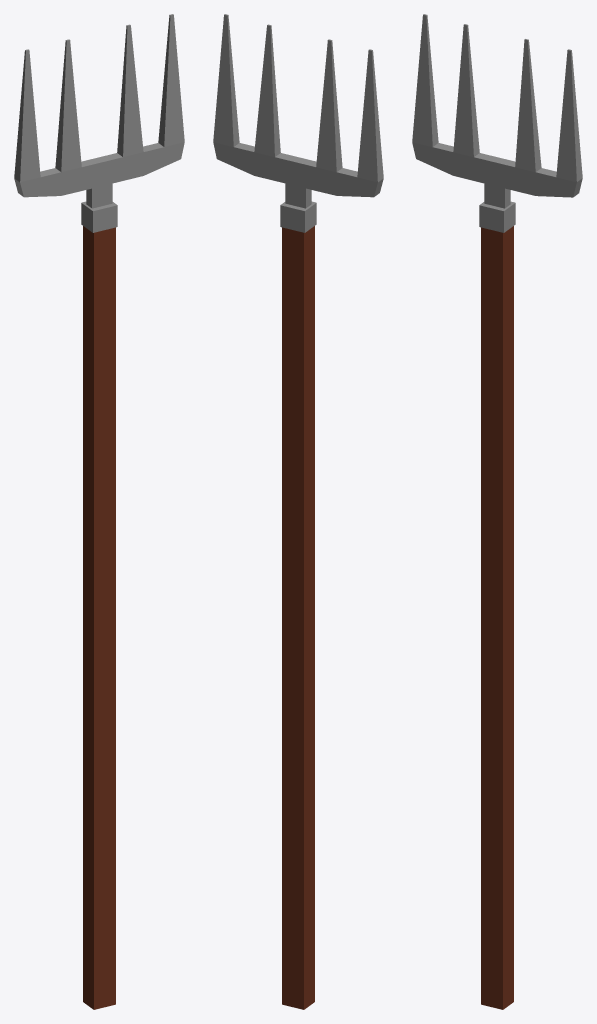
File: Pitchfork.fbx
3 renders of one model, left to right at view 1: azimuth 30°, elevation 25°; view 2: azimuth 150°, elevation 25°; view 3: azimuth 330°, elevation 25°, orthographic.
Parts seen in each view (by area): view 1: Cube, Куб; view 2: Cube, Куб; view 3: Cube, Куб.
Part boxes in pixels (box(x1,y1,x2,y2)): Cube: box(83, 226, 115, 1009); Куб: box(14, 14, 184, 232); Cube: box(282, 226, 314, 1009); Куб: box(213, 14, 383, 232); Cube: box(481, 226, 513, 1009); Куб: box(412, 14, 582, 232).
Bounding box in the file's own units: 83.84 × 472 × 10.34.
